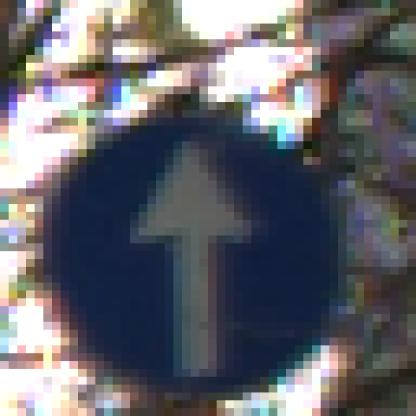AheadOnly: (53, 40, 374, 370)
